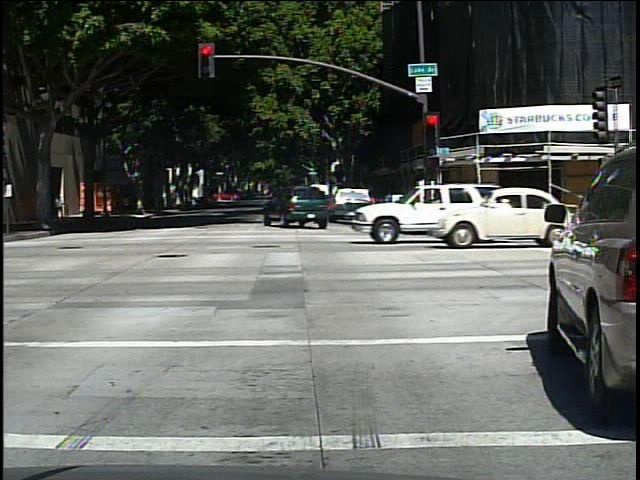person: (55, 189, 68, 223)
